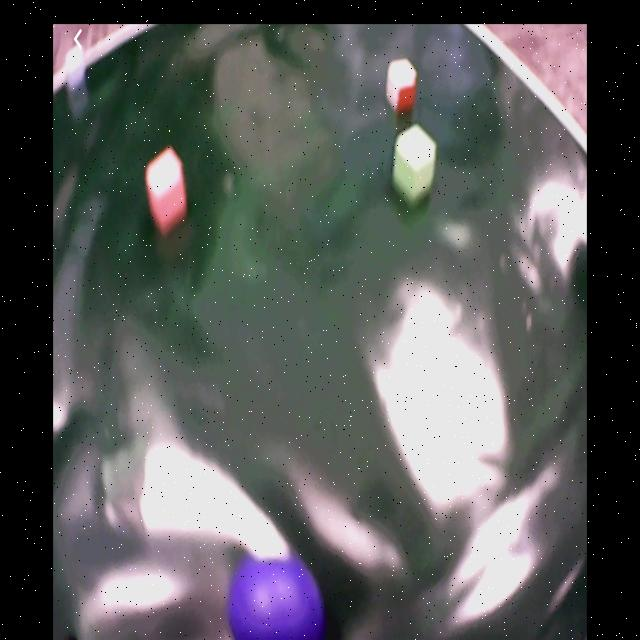ball: (228, 556, 324, 640)
